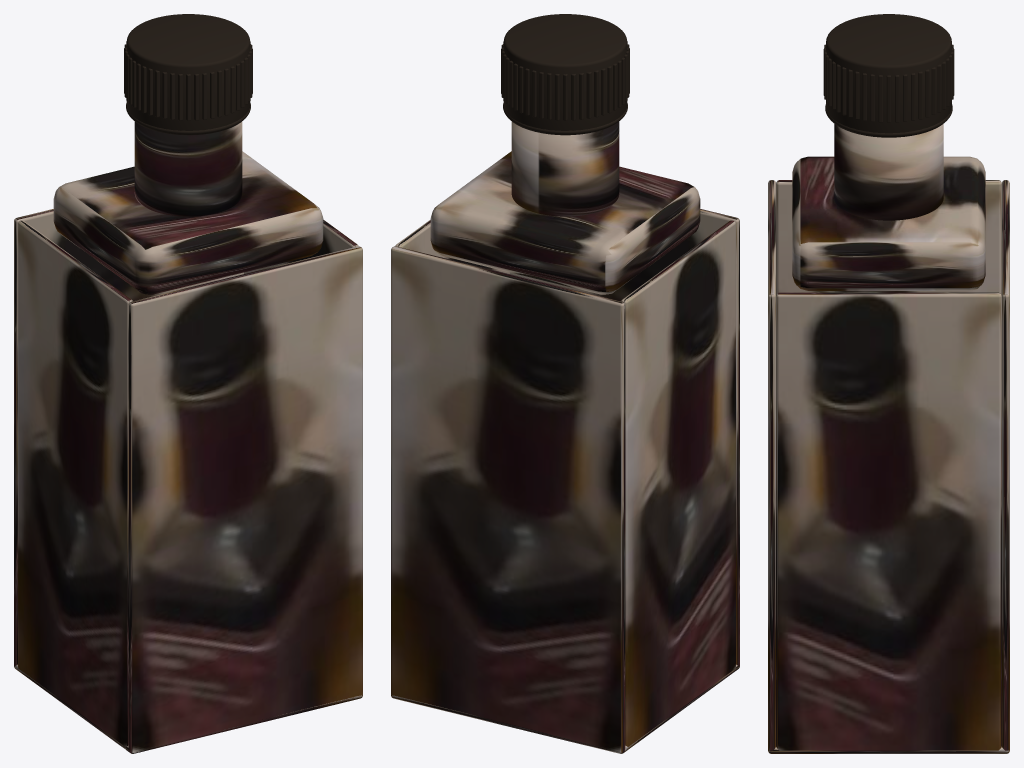
Rendered from fridge_contents__square_sauce_bottle.glb.
3 views of the same model, side by side, from view 1: azimuth 30°, elevation 25°; view 2: azimuth 150°, elevation 25°; view 3: azimuth 270°, elevation 25° (orthographic).
Parts seen in each view (by area): view 1: body, shoulder, removable closure, neck; view 2: body, shoulder, removable closure, neck; view 3: body, shoulder, removable closure, neck, closure lower bead.
Part boxes in pixels (x1,y1,x2,y2): body: (14,209,362,753); shoulder: (53,151,323,294); removable closure: (126,14,250,135); neck: (134,121,242,216); body: (391,209,739,753); shoulder: (430,151,700,294); removable closure: (503,14,627,135); neck: (511,121,619,216); body: (768,180,1009,753); shoulder: (792,156,985,290); removable closure: (826,14,951,137); neck: (834,124,943,220); closure lower bead: (825,104,952,136).
Size of the model in its own units: 0.068 by 0.18 by 0.06.
Materials: 2 (1 with a texture image).
